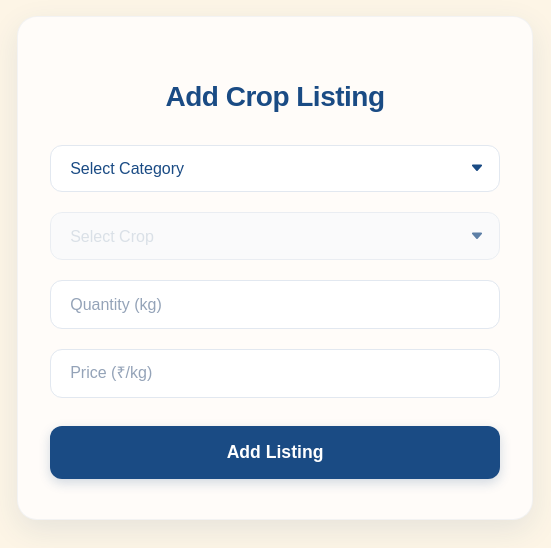
Scenario: Functional: CropListingForm Component › TC007: clears form after successful submission
The image size is (551, 548).
# Fill form
Select "Vegetables" in the 1st dropdown at (275, 168), box [50, 144, 500, 192]
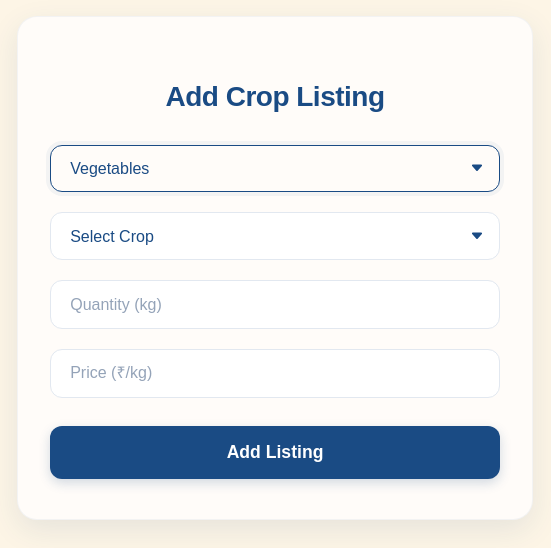
Select "Tomato" in the 2nd dropdown at (275, 236), box [50, 212, 500, 260]
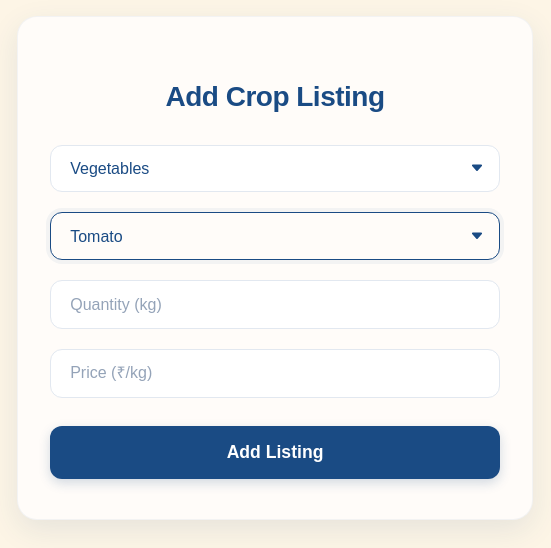
Type "100" into the number field with placeholder "Quantity (kg)" at (275, 304), box [50, 280, 500, 329]
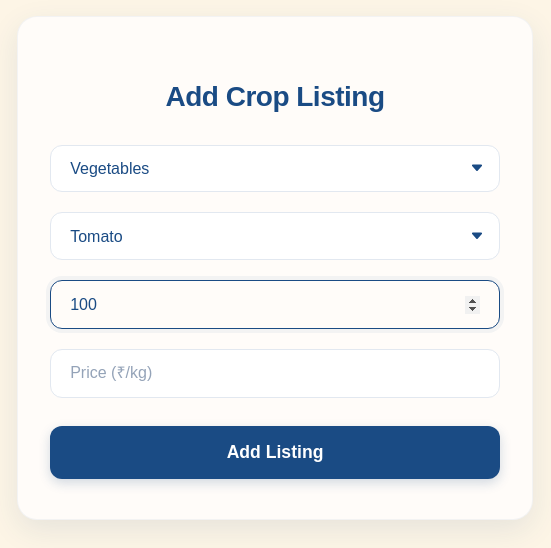
Type "50" into the number field with placeholder "Price (₹/kg)" at (275, 373), box [50, 349, 500, 398]
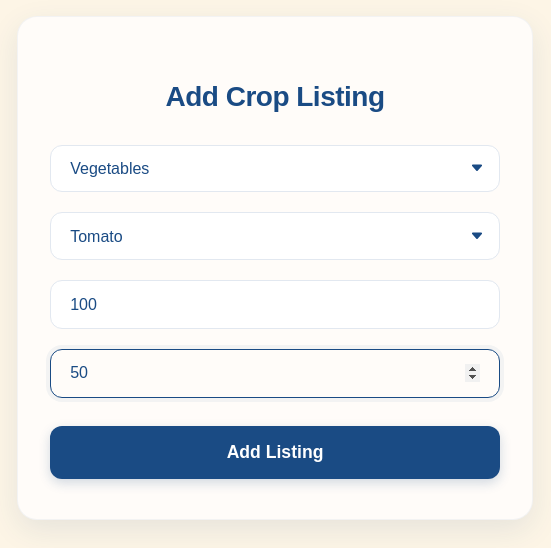
Click the button "Add Listing" at (275, 452), box [50, 426, 500, 479]
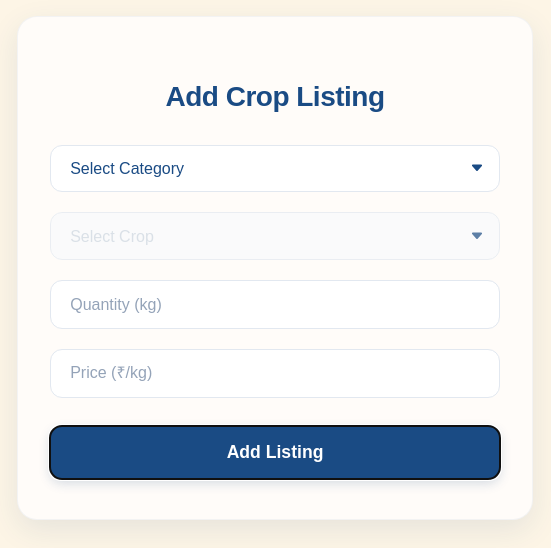
Result: the number field with placeholder "Quantity (kg)" is not empty at [50, 280, 500, 329]
Result: the number field with placeholder "Price (₹/kg)" is not empty at [50, 349, 500, 398]
